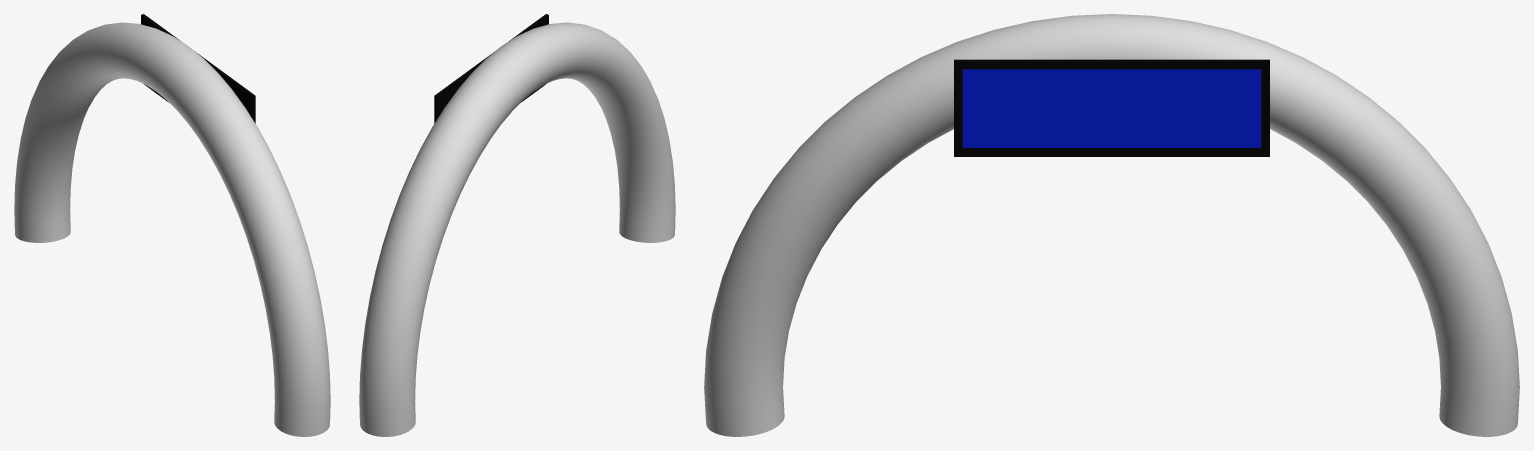
The model's file is Ending Object.fbx.
The picture shows the model from 3 angles, left to right: view 1: azimuth 30°, elevation 25°; view 2: azimuth 150°, elevation 25°; view 3: azimuth 270°, elevation 25°; orthographic projection. The views are drawn at different scales.
Visible parts, largest first — view 1: Ending Object; view 2: Ending Object; view 3: Ending Object.
Boxes of the visible parts, left/top/right/bottom form: Ending Object: left=14, top=14, right=330, bottom=436; Ending Object: left=359, top=14, right=675, bottom=436; Ending Object: left=704, top=14, right=1519, bottom=436.
Bounding box in the file's own units: 160 × 851 × 1550.
